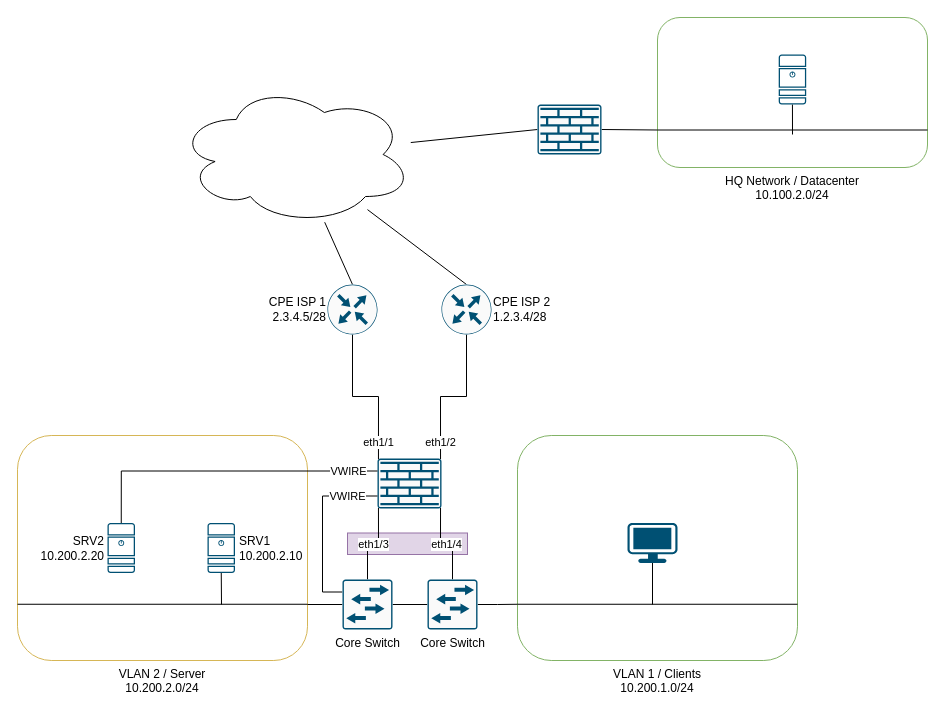
The diagram is 946 pixels wide and 714 high, and some of its shapes have lost their labels. The shapes that lost their labels are listed below. From the top down, each one's centre as x and y in pixels, then its label:
the point at 792,79: SRV DC 10.100.2.30
the point at 294,154: Internet
the point at 407,543: ae1
the point at 652,542: Client 10.200.1.35
